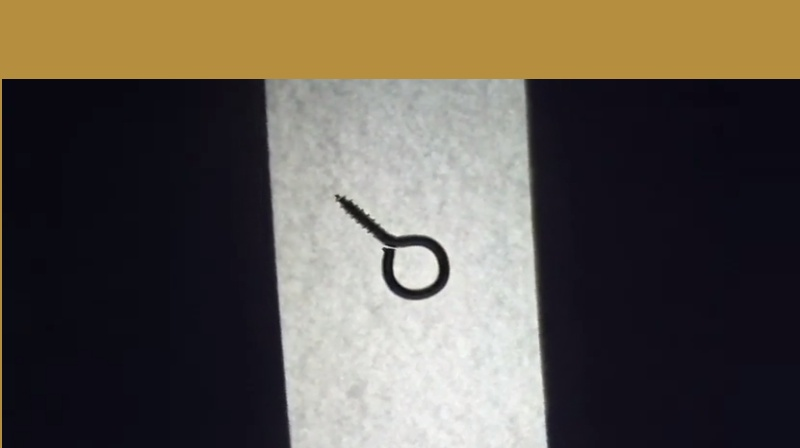O001: (324, 192, 454, 302)
